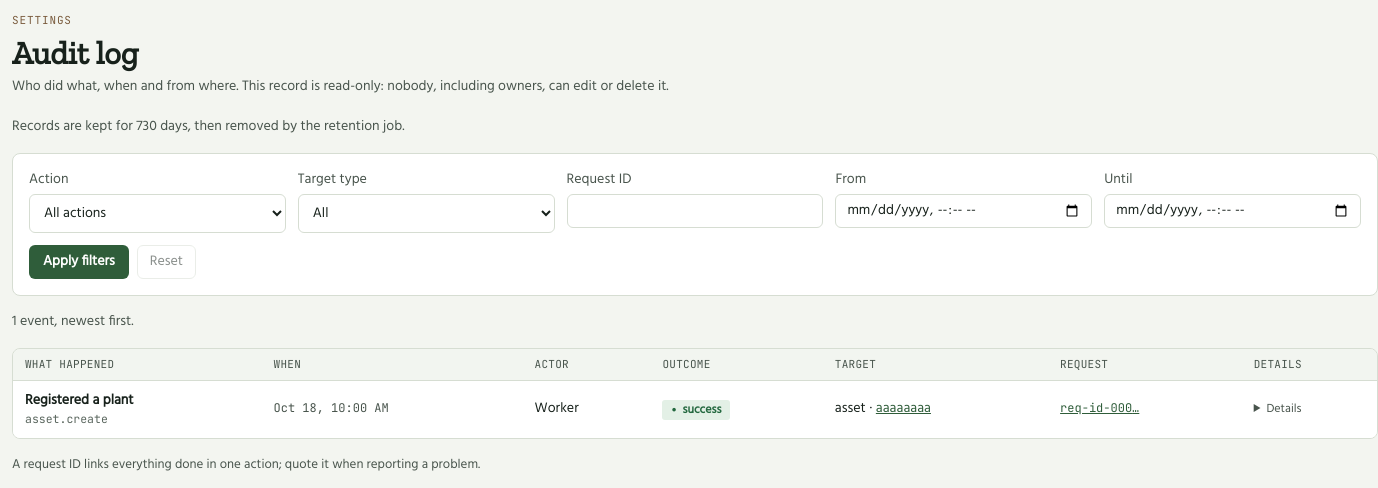
Scenario: audit log page › clicking a request ID narrows the log to that request
The image size is (1378, 488).
Click the button "req-id-000…": coordinates (1100, 408) [1060,400,1139,416]
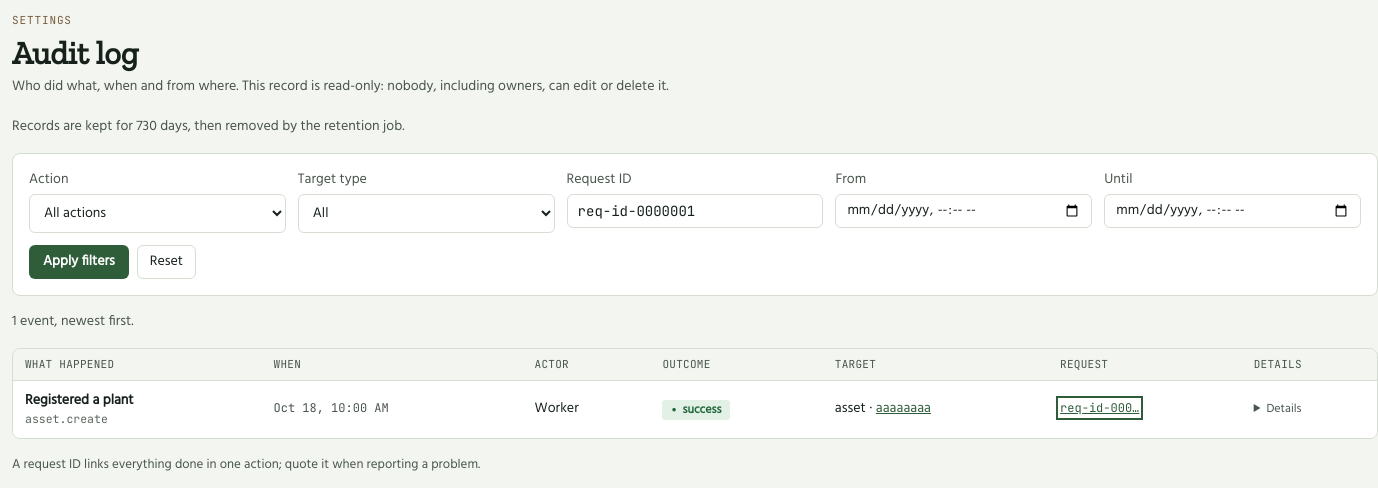
Expected: the field labelled "Request ID" holds "req-id-0000001", [567,194,823,228]
